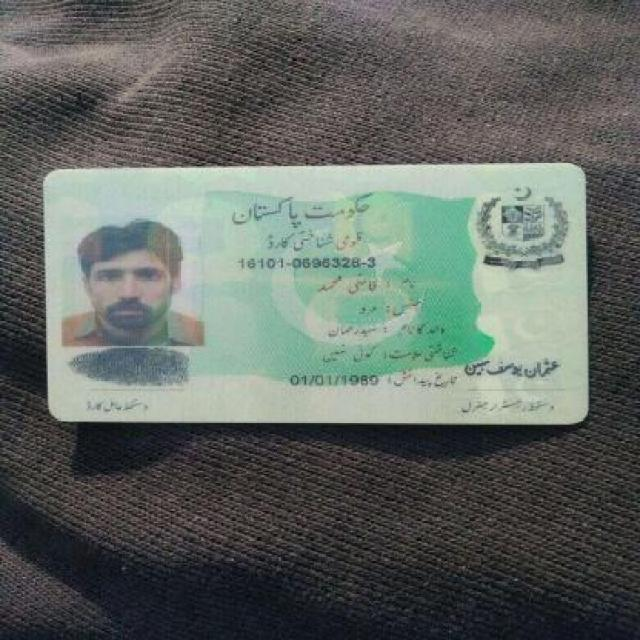Front: (31, 158, 591, 428)
